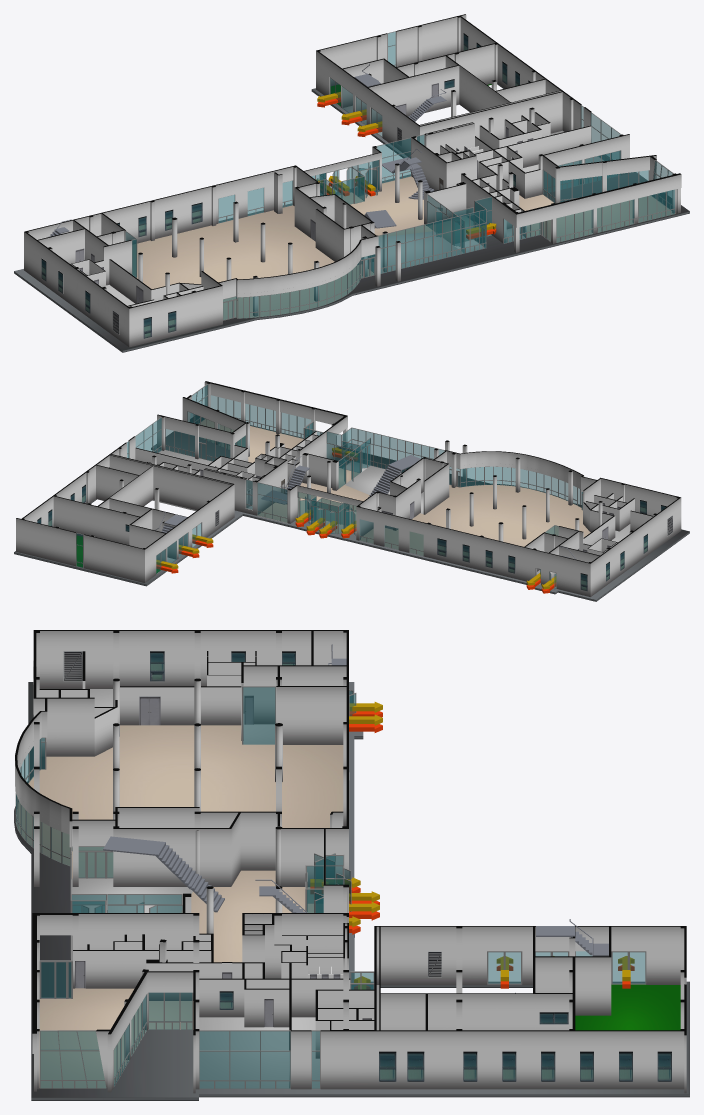
The model's file is soulbrain_T9-1-1F.glb.
The picture shows the model from 3 angles, top to bottom: view 1: azimuth 30°, elevation 25°; view 2: azimuth 150°, elevation 25°; view 3: azimuth 270°, elevation 25°; orthographic projection. The views are drawn at different scales.
Visible parts, largest first — view 1: T-9-1-1F (1), Box371, Line017, Line019, Box837, StraightStair009; view 2: T-9-1-1F (1), Box371, Line017, Line019, StraightStair008, StraightStair009, Box837; view 3: T-9-1-1F (1), Box371, Line017, Line019, StraightStair008, Box837, StraightStair005.
Part boxes in pixels (bbox=[...]): T-9-1-1F (1): bbox=[24, 14, 681, 347]; Box371: bbox=[41, 31, 675, 338]; Line017: bbox=[14, 83, 689, 352]; Line019: bbox=[106, 84, 617, 305]; Box837: bbox=[75, 83, 541, 303]; StraightStair009: bbox=[382, 157, 433, 199]; T-9-1-1F (1): bbox=[16, 381, 681, 596]; Box371: bbox=[37, 384, 672, 591]; Line017: bbox=[14, 415, 689, 601]; Line019: bbox=[76, 450, 630, 588]; StraightStair008: bbox=[368, 455, 420, 497]; StraightStair009: bbox=[261, 465, 309, 504]; Box837: bbox=[199, 466, 620, 552]; T-9-1-1F (1): bbox=[15, 630, 686, 1093]; Box371: bbox=[15, 651, 686, 1088]; Line017: bbox=[14, 682, 689, 1100]; Line019: bbox=[90, 689, 680, 1088]; StraightStair008: bbox=[103, 836, 224, 912]; Box837: bbox=[75, 695, 535, 1026]; StraightStair005: bbox=[536, 926, 608, 956].
Size of the model in its own units: 83.48 by 7.49 by 57.38.
18 materials, 12 textured.
